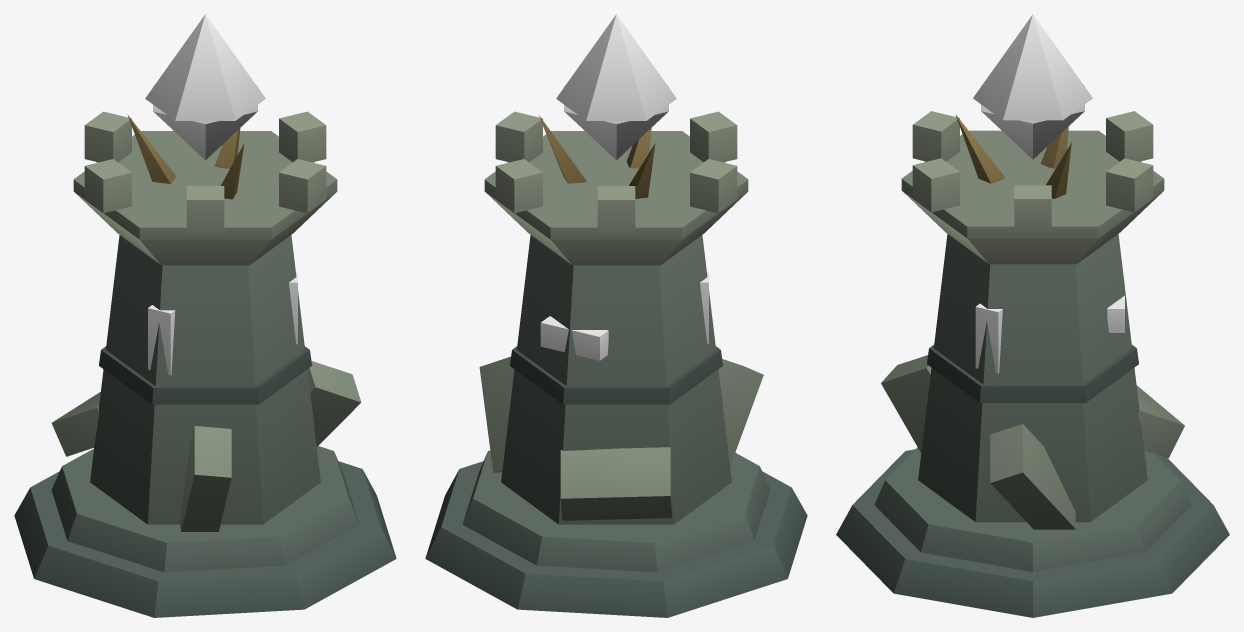
Rendered from tower.glb.
3 renders of one model, left to right at view 1: azimuth 30°, elevation 25°; view 2: azimuth 150°, elevation 25°; view 3: azimuth 270°, elevation 25°, orthographic.
Visible parts, largest first — view 1: TowerBody, TowerCrystal, TowerGlow; view 2: TowerBody, TowerCrystal, TowerGlow; view 3: TowerBody, TowerCrystal, TowerGlow.
Boxes of the visible parts, x1,y1,x2,y2 form: TowerBody: (14, 111, 396, 617); TowerCrystal: (145, 14, 265, 160); TowerGlow: (148, 271, 297, 375); TowerBody: (425, 111, 807, 617); TowerCrystal: (556, 14, 676, 160); TowerGlow: (540, 271, 708, 360); TowerBody: (836, 111, 1229, 617); TowerCrystal: (973, 14, 1092, 159); TowerGlow: (975, 280, 1124, 373).
Size of the model in its own units: 3.6 by 5.25 by 3.6.
